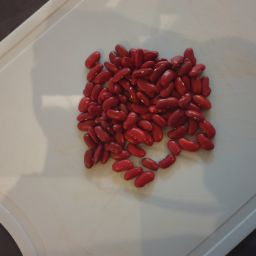Pinto Beans (kidney beans): (37, 27, 237, 200), (120, 85, 195, 130), (69, 83, 108, 139), (177, 108, 224, 153), (114, 44, 161, 79), (117, 115, 167, 147), (122, 151, 161, 191), (80, 53, 107, 99), (176, 45, 202, 81), (76, 148, 98, 176), (112, 161, 135, 171)
